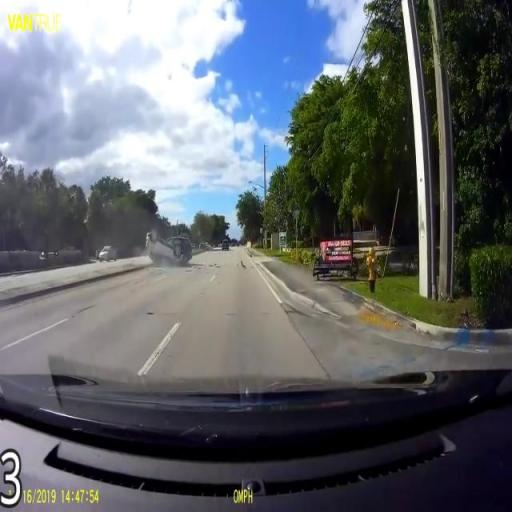小汽车: (93, 244, 122, 264)
小汽车撞小汽车: (141, 228, 197, 266)
